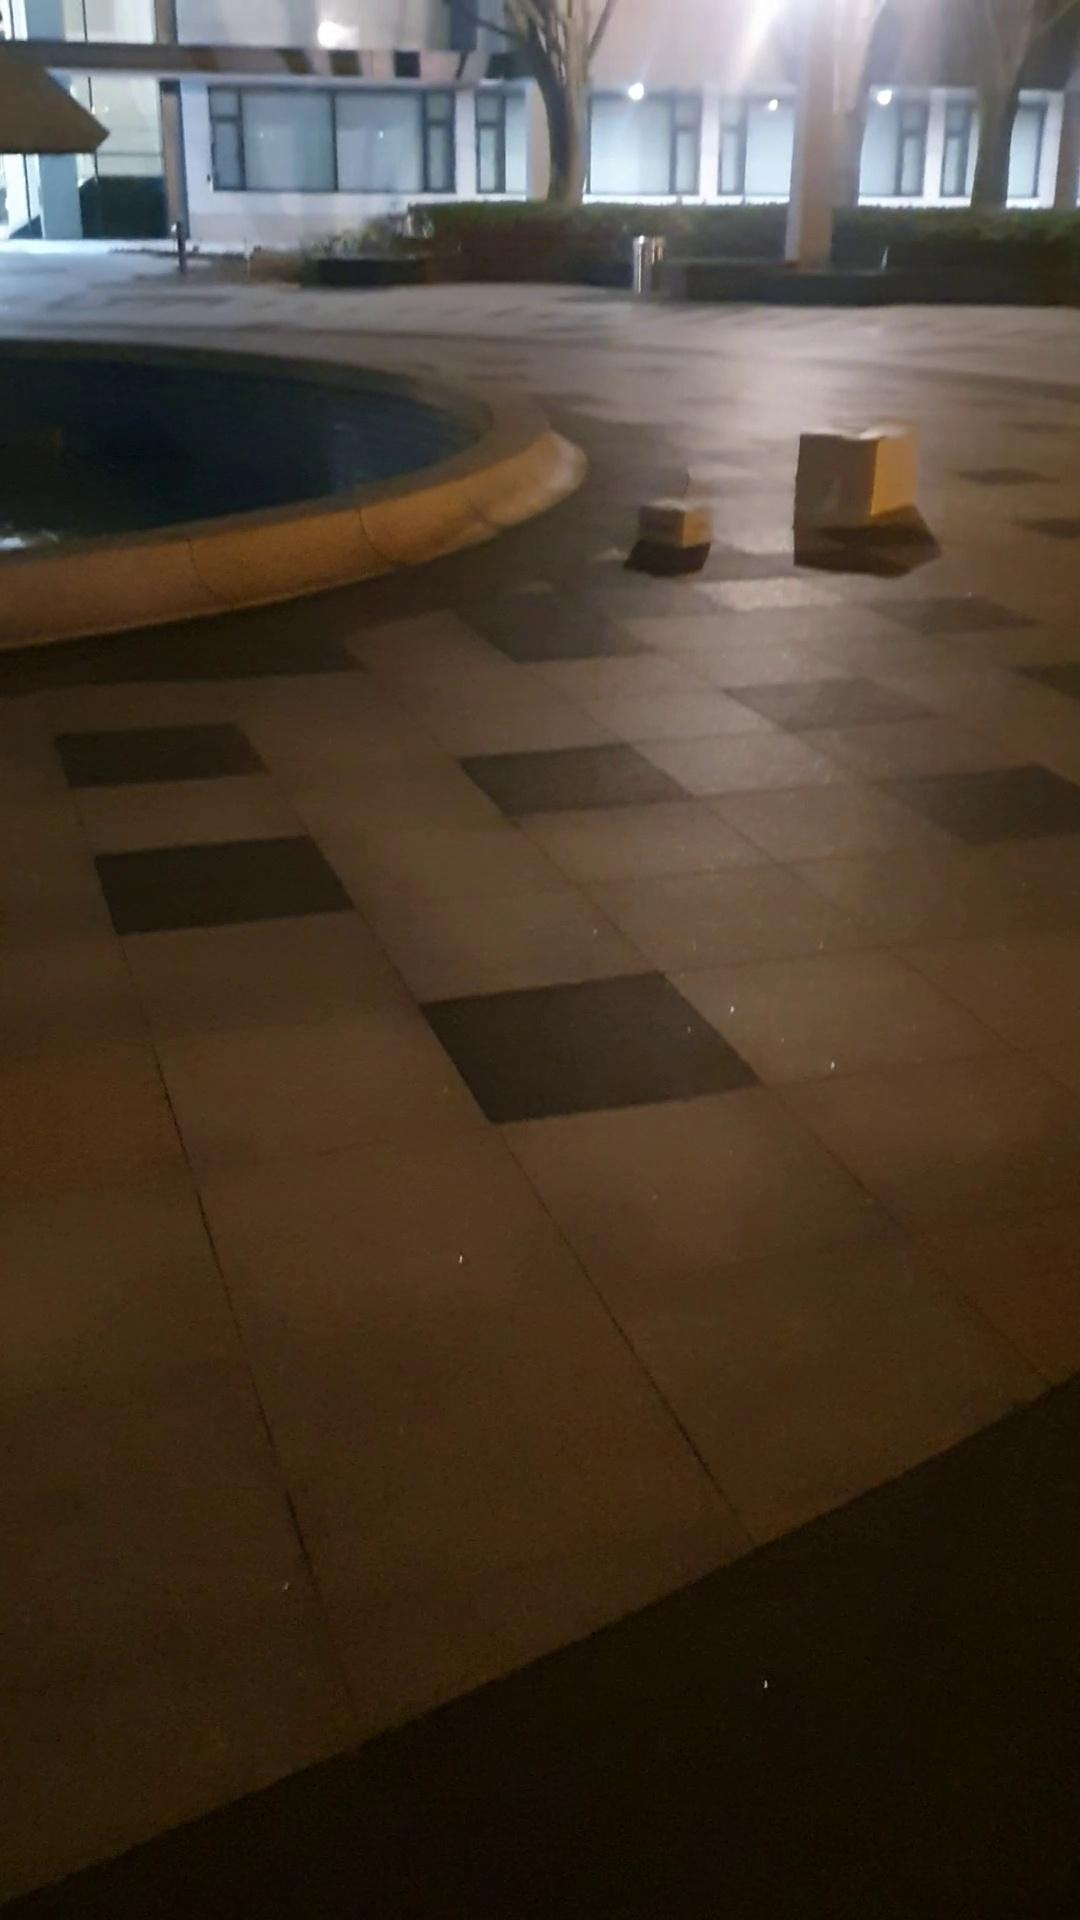Box: (793, 418, 928, 549), (628, 485, 717, 556)
